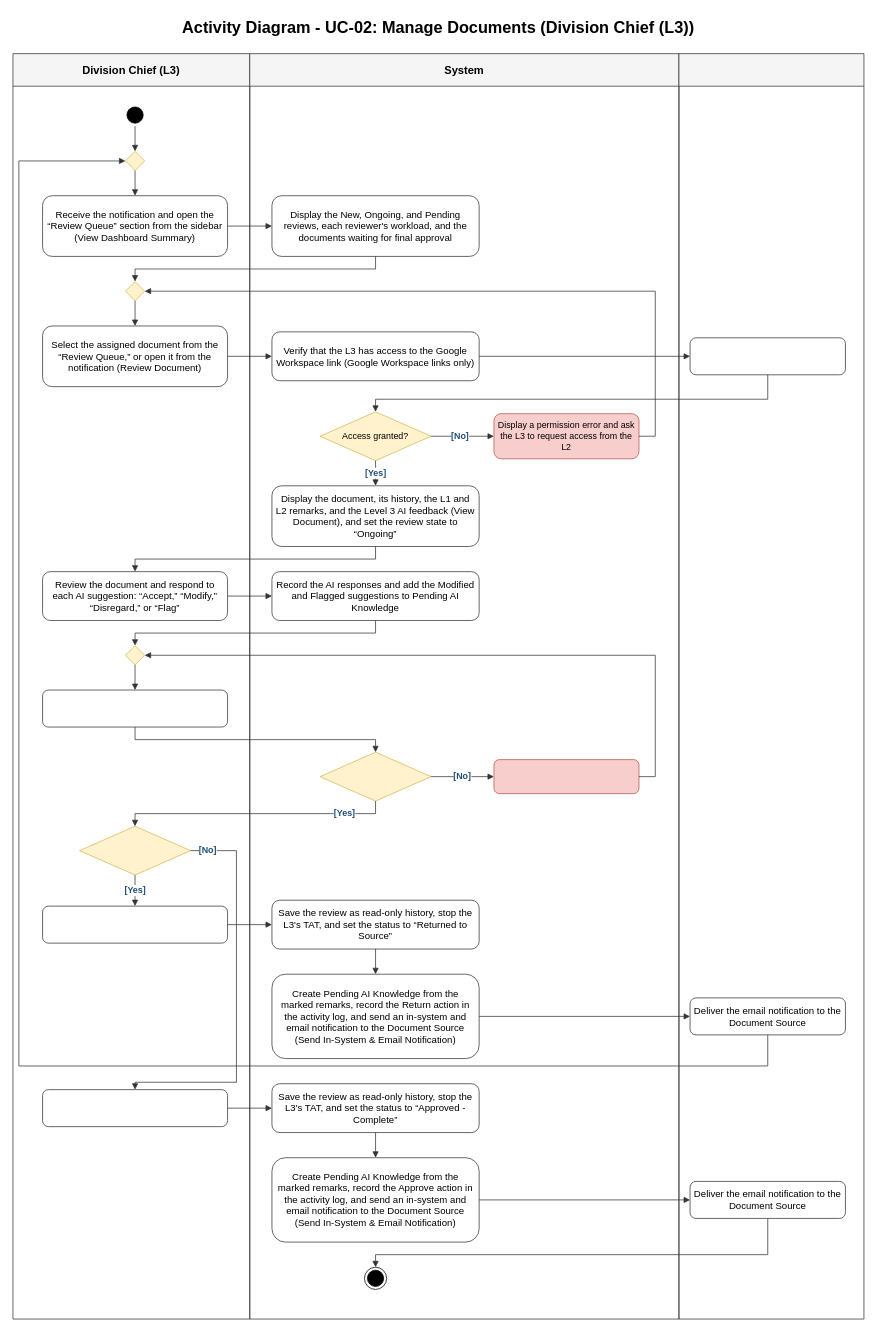
The diagram is 877 pixels wide and 1332 high, and some of its shapes have lost their labels. The shapes that lost their labels are listed below. From the top down, each one's box as (x1, y1, x2, y2) in pixels, then its label:
(689, 337, 845, 375): Check the link's sharing settings
(678, 53, 864, 1319): Google Workspace
(42, 689, 228, 727): Enter the official remarks and mark any for AI knowledge review
(319, 751, 431, 801): Official remarks entered?
(493, 759, 639, 794): Do not allow the L3 to return or approve the document
(79, 825, 191, 875): Needs revision?
(42, 905, 228, 943): Click “Return” (Return Document with Remarks)
(42, 1089, 228, 1127): Click “Approve” (Approve Document)
